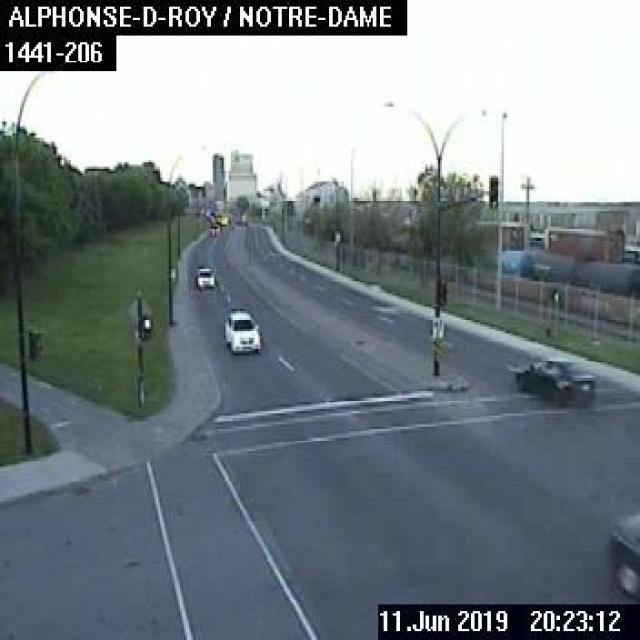vehicle: (509, 356, 596, 404), (606, 509, 638, 600), (220, 304, 260, 356), (189, 262, 216, 289), (206, 221, 222, 237)
